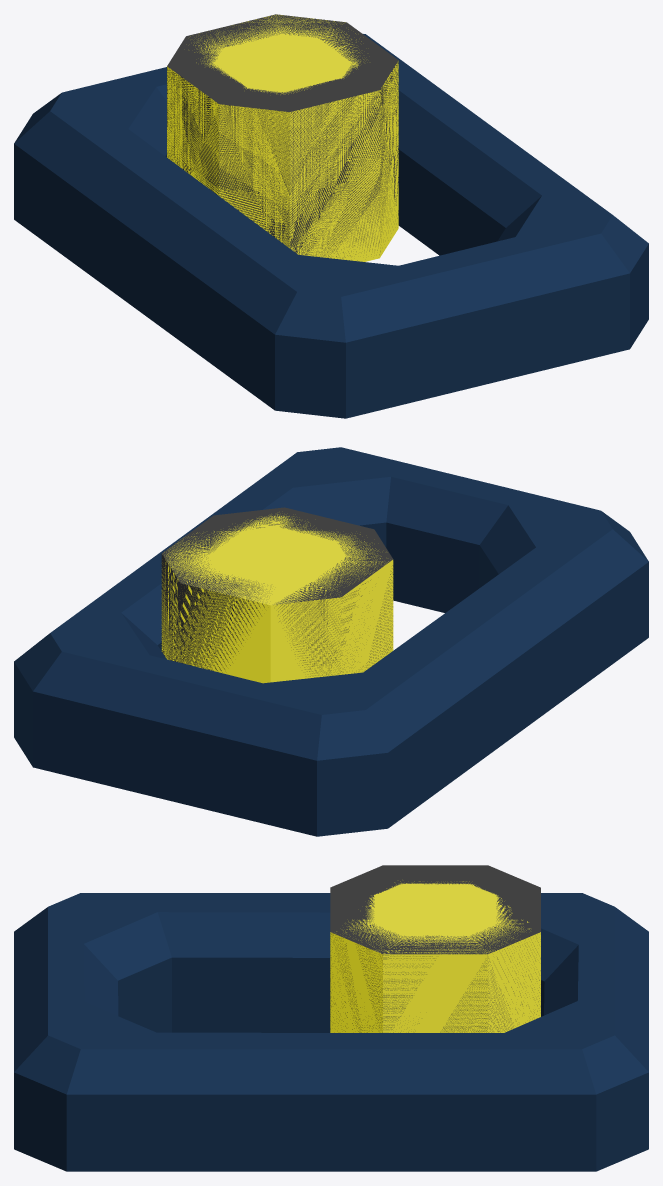
The model's file is Switch.fbx.
The picture shows the model from 3 angles, top to bottom: view 1: azimuth 30°, elevation 25°; view 2: azimuth 150°, elevation 25°; view 3: azimuth 270°, elevation 25°; orthographic projection.
Parts seen in each view (by area): view 1: Holder, Switch, SwitchOff; view 2: Holder, Switch, SwitchOff; view 3: Holder, Switch, SwitchOff.
Part boxes in pixels (x1,y1,x2,y2): Holder: (14,34,648,418); Switch: (167,14,398,261); SwitchOff: (167,14,398,260); Holder: (14,447,648,836); Switch: (161,514,393,683); SwitchOff: (161,507,393,677); Holder: (14,893,648,1171); Switch: (330,881,540,1032); SwitchOff: (330,865,540,1032).
Bounding box in the file's own units: 208 × 89.57 × 301.
1 material, 1 textured.
